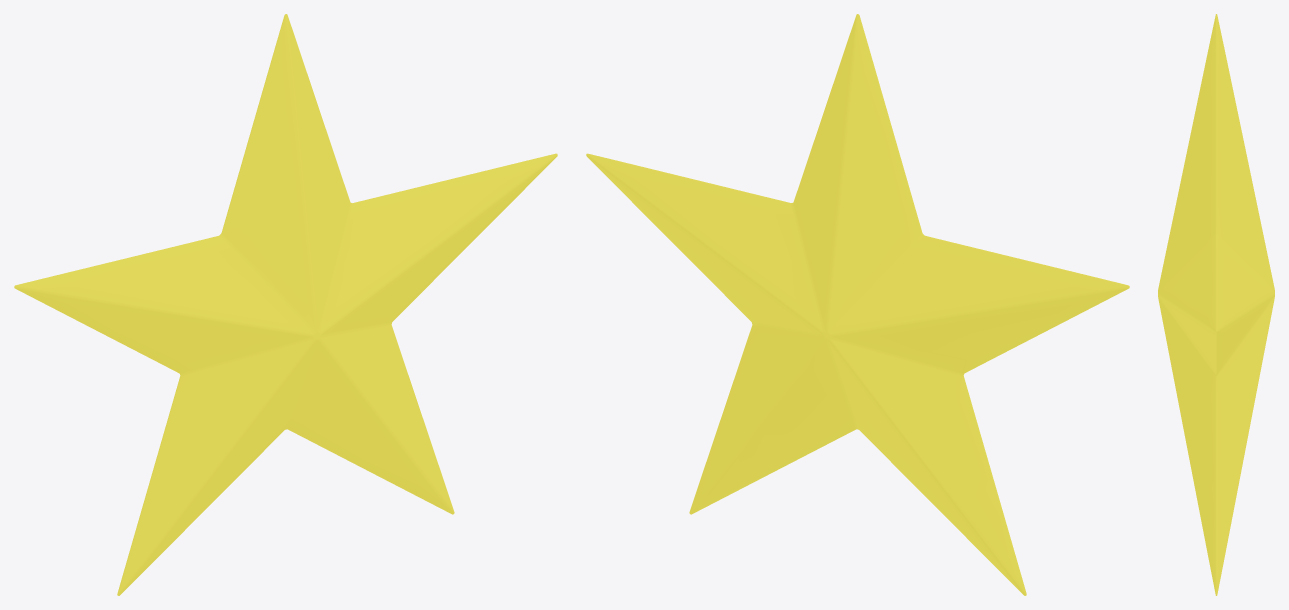
File: star.fbx
The picture shows the model from 3 angles, left to right: view 1: azimuth 30°, elevation 25°; view 2: azimuth 150°, elevation 25°; view 3: azimuth 270°, elevation 25°; orthographic projection. The views are drawn at different scales.
Parts seen in each view (by area): view 1: Cube; view 2: Cube; view 3: Cube.
Boxes of the visible parts, bbox=[...] form: Cube: bbox=[14, 14, 557, 595]; Cube: bbox=[586, 14, 1129, 595]; Cube: bbox=[1158, 14, 1274, 595].
Bounding box in the file's own units: 3.12 × 2.97 × 0.6219.
